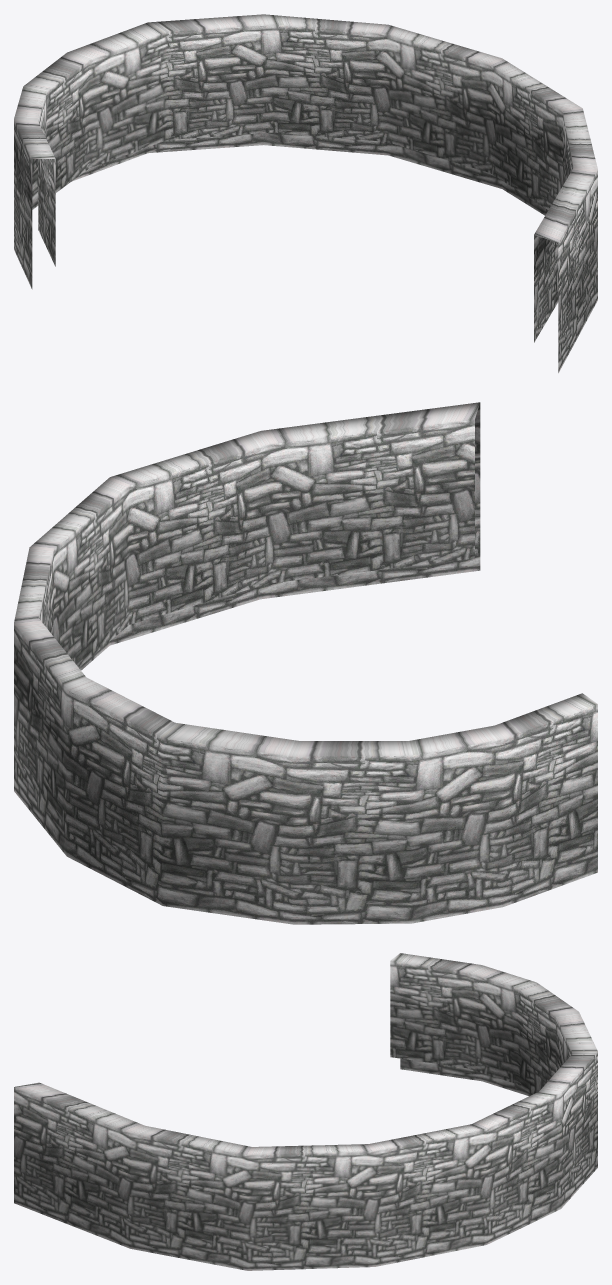
Rendered from HTOWN01_BAGENDTERRACE1.fbx.
The picture shows the model from 3 angles, top to bottom: view 1: azimuth 30°, elevation 25°; view 2: azimuth 150°, elevation 25°; view 3: azimuth 270°, elevation 25°; orthographic projection. The views are drawn at different scales.
Visible parts, largest first — view 1: HTOWN01_BAGENDTERRACE1; view 2: HTOWN01_BAGENDTERRACE1; view 3: HTOWN01_BAGENDTERRACE1.
Part boxes in pixels (x1=…): HTOWN01_BAGENDTERRACE1: x1=14, y1=14, x2=597, y2=372; HTOWN01_BAGENDTERRACE1: x1=14, y1=402, x2=597, y2=924; HTOWN01_BAGENDTERRACE1: x1=14, y1=953, x2=597, y2=1270.
Size of the model in its own units: 79238 by 21304 by 96976.
1 material, 1 textured.
